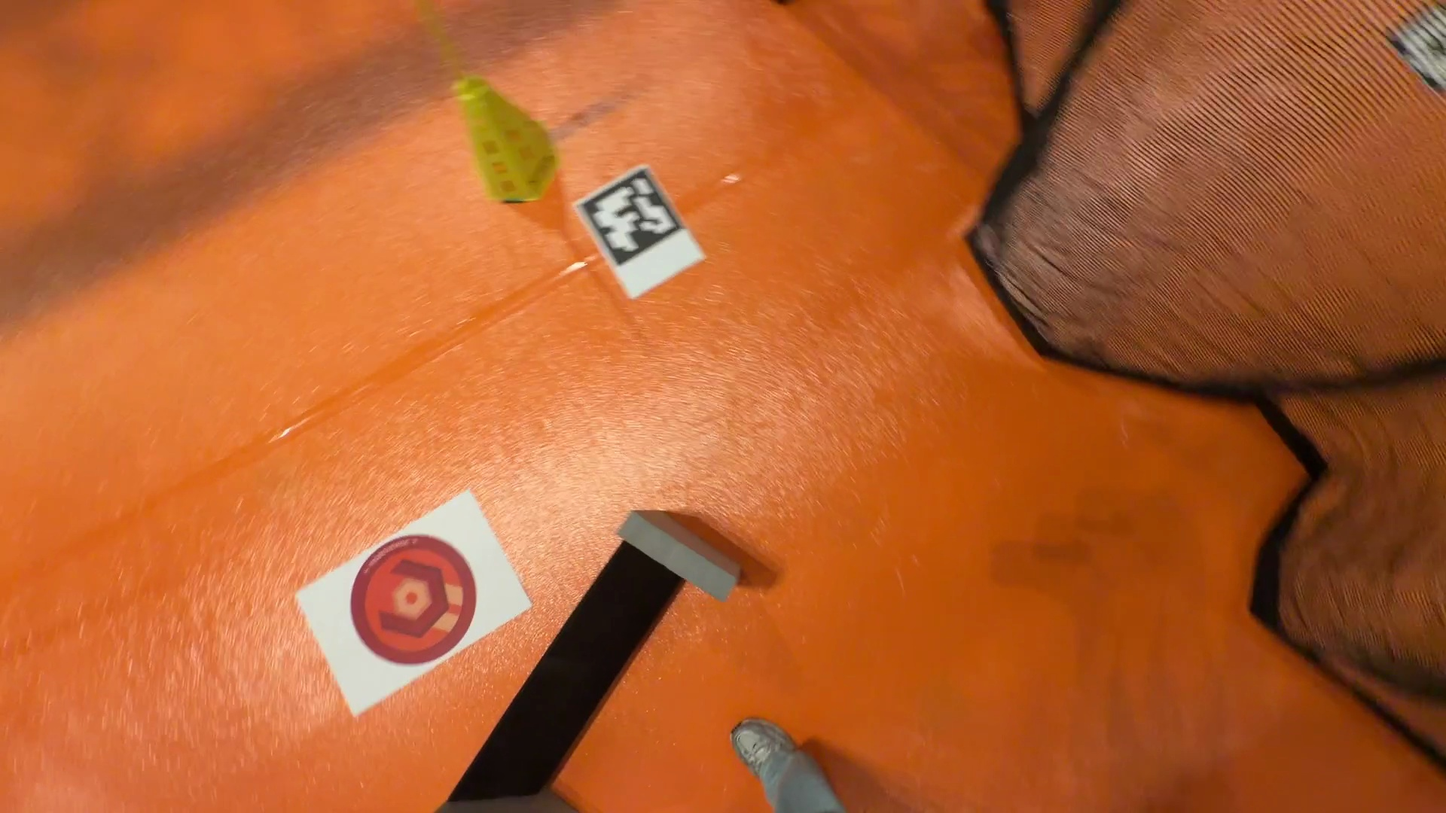landing_pad: (347, 534, 482, 671)
